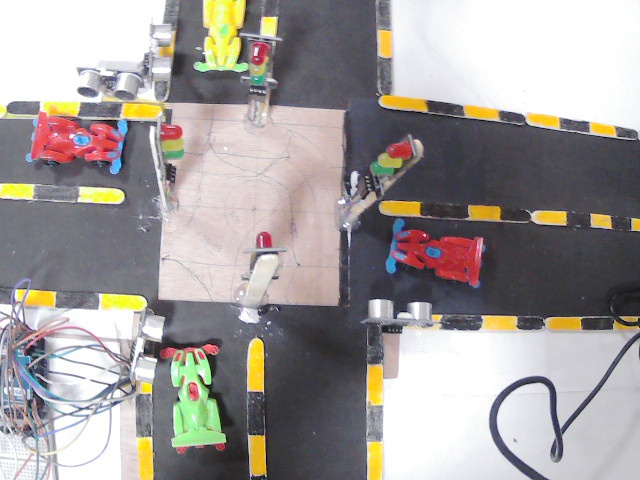black_strip: (423, 203, 465, 221), (137, 392, 152, 438), (247, 384, 263, 427), (82, 101, 121, 118), (38, 184, 76, 201), (57, 291, 98, 306), (447, 316, 483, 333), (367, 405, 382, 442), (373, 61, 392, 88), (427, 100, 462, 114), (500, 208, 532, 222), (581, 318, 615, 331), (499, 107, 524, 124), (369, 336, 384, 364), (8, 102, 40, 115), (560, 117, 591, 130), (516, 317, 543, 331), (373, 5, 389, 27), (166, 0, 178, 27), (567, 213, 588, 227), (261, 0, 282, 12), (0, 287, 13, 304), (615, 128, 637, 138), (613, 219, 630, 231), (164, 76, 171, 97)
car: (160, 337, 233, 456), (383, 220, 487, 293), (27, 113, 133, 173), (189, 0, 249, 78)
mixed_lane: (371, 0, 635, 140), (380, 199, 640, 235), (425, 312, 640, 337), (242, 337, 270, 477), (0, 287, 149, 313), (0, 100, 164, 121), (362, 324, 384, 480), (0, 182, 131, 204), (131, 379, 158, 480), (257, 0, 283, 43), (163, 2, 181, 56), (153, 69, 173, 101)
traffic_light: (359, 135, 422, 196), (243, 36, 286, 97), (241, 229, 283, 291), (152, 120, 183, 190)
uno_breadboard: (0, 326, 66, 480), (125, 307, 171, 387), (77, 64, 144, 100), (144, 20, 177, 86), (369, 296, 434, 329)
yellow_strip: (243, 339, 266, 390), (246, 434, 265, 476), (379, 94, 427, 110), (81, 182, 125, 199), (100, 293, 144, 310), (365, 364, 382, 407), (122, 102, 161, 120), (15, 290, 53, 308), (375, 24, 397, 55), (3, 182, 40, 200), (482, 314, 516, 333), (542, 315, 580, 331), (42, 101, 78, 117), (137, 436, 151, 477), (383, 202, 419, 217), (463, 206, 498, 221), (369, 442, 384, 475), (533, 211, 564, 226), (260, 12, 280, 35), (526, 113, 560, 126), (467, 104, 500, 117), (163, 29, 176, 55), (590, 213, 611, 229), (619, 316, 639, 331), (591, 124, 615, 135), (432, 314, 441, 332), (139, 382, 152, 393), (634, 218, 640, 231), (0, 104, 7, 113)
